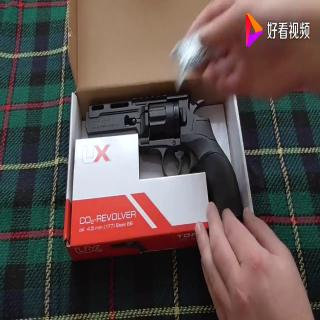gun: (84, 91, 243, 221)
